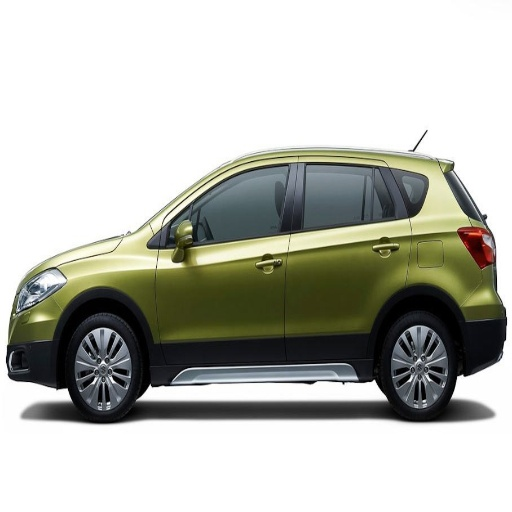back_bumper: (459, 290, 507, 368)
back_left_door: (285, 157, 407, 362)
front_left_door: (156, 157, 298, 366)
